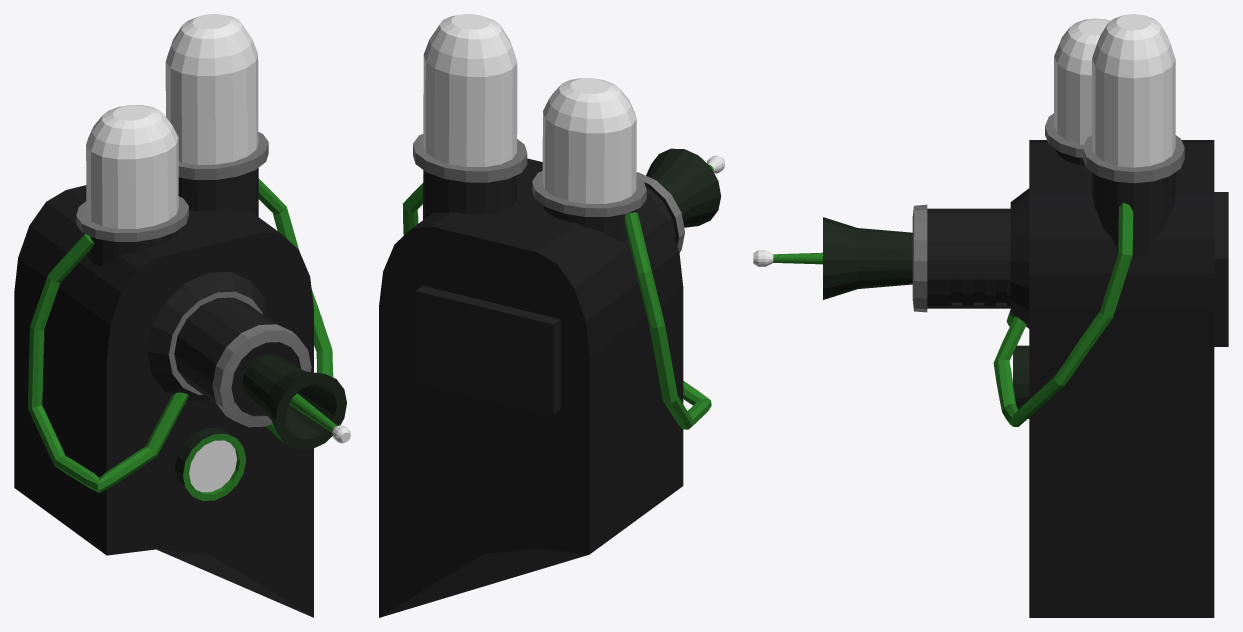
File: laser upgrade.fbx
The picture shows the model from 3 angles, left to right: view 1: azimuth 30°, elevation 25°; view 2: azimuth 150°, elevation 25°; view 3: azimuth 270°, elevation 25°; orthographic projection.
Visible parts, largest first — view 1: laser; view 2: laser; view 3: laser.
Boxes of the visible parts, x1,y1,x2,y2 form: laser: [14, 14, 350, 617]; laser: [379, 14, 724, 617]; laser: [753, 14, 1228, 617].
Size of the model in its own units: 109 by 216 by 163.
